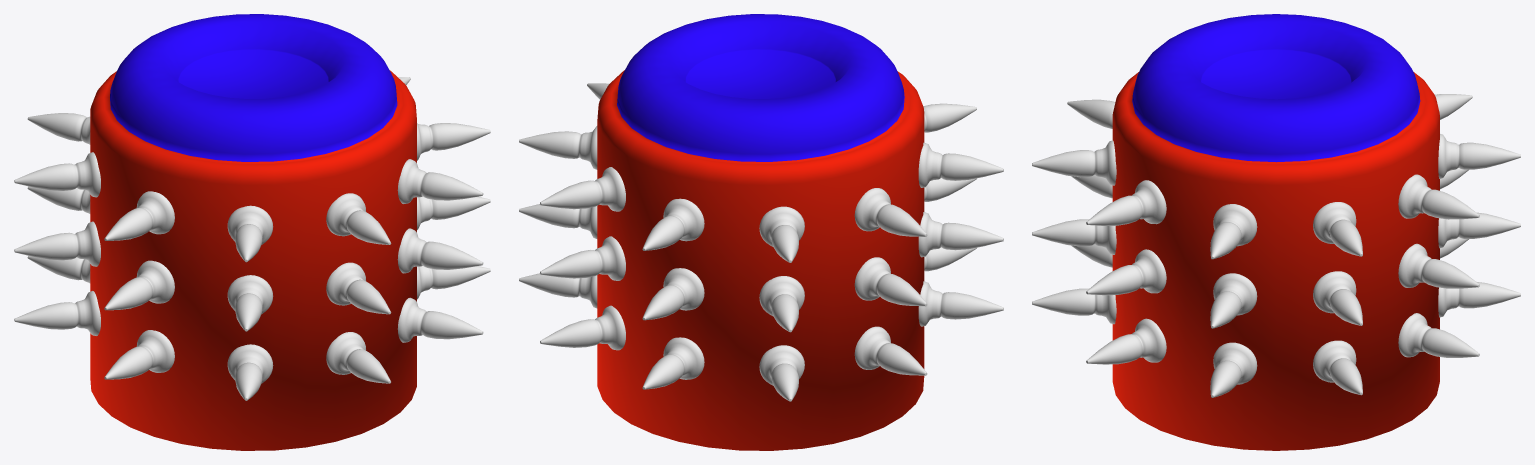
The model's file is Obstacle3.fbx.
3 renders of one model, left to right at view 1: azimuth 30°, elevation 25°; view 2: azimuth 150°, elevation 25°; view 3: azimuth 270°, elevation 25°, orthographic.
Parts seen in each view (by area): view 1: Cylinder.024, Cylinder.001; view 2: Cylinder.024, Cylinder.001; view 3: Cylinder.024, Cylinder.001.
Boxes of the visible parts, x1,y1,x2,y2 form: Cylinder.024: (90,14,416,450); Cylinder.001: (14,77,490,400); Cylinder.024: (597,14,924,450); Cylinder.001: (519,83,1003,401); Cylinder.024: (1112,14,1439,450); Cylinder.001: (1032,94,1520,397).
Bounding box in the file's own units: 327 × 246 × 339.
